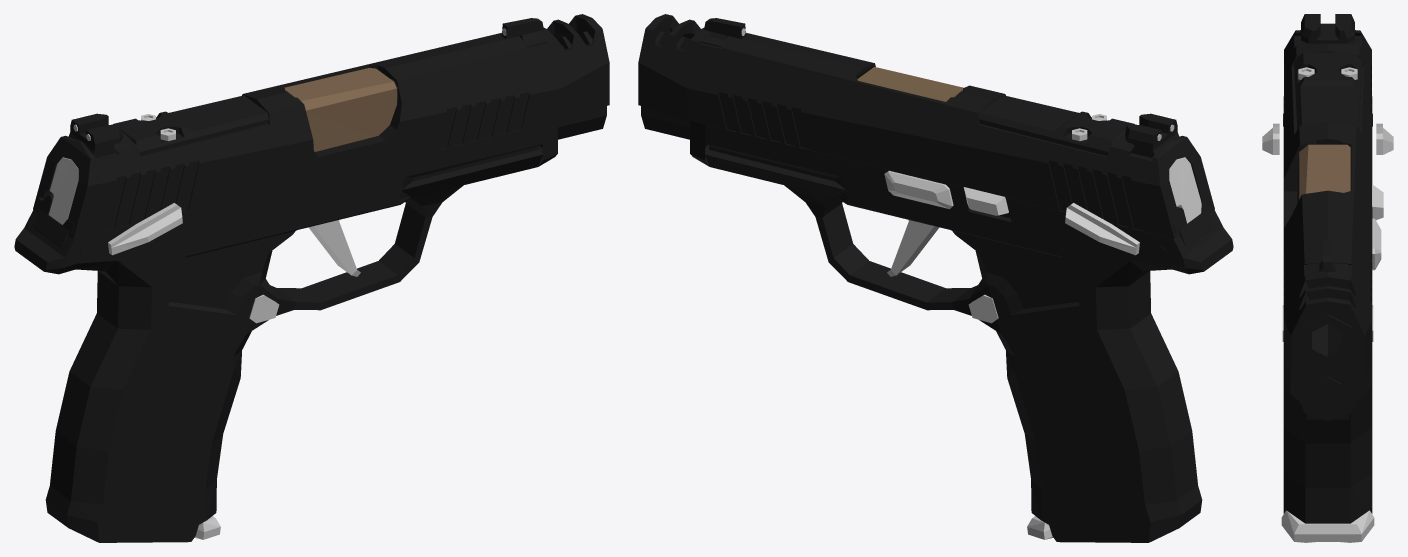
The model's file is pistol.fbx.
3 renders of one model, left to right at view 1: azimuth 30°, elevation 25°; view 2: azimuth 150°, elevation 25°; view 3: azimuth 270°, elevation 25°, orthographic. The views are drawn at different scales.
Visible parts, largest first — view 1: Cube; view 2: Cube; view 3: Cube.
Part boxes in pixels (x1=…): Cube: x1=14, y1=14, x2=609, y2=542; Cube: x1=638, y1=14, x2=1233, y2=542; Cube: x1=1262, y1=14, x2=1393, y2=542.
Size of the model in its own units: 462 by 335 by 85.35.
